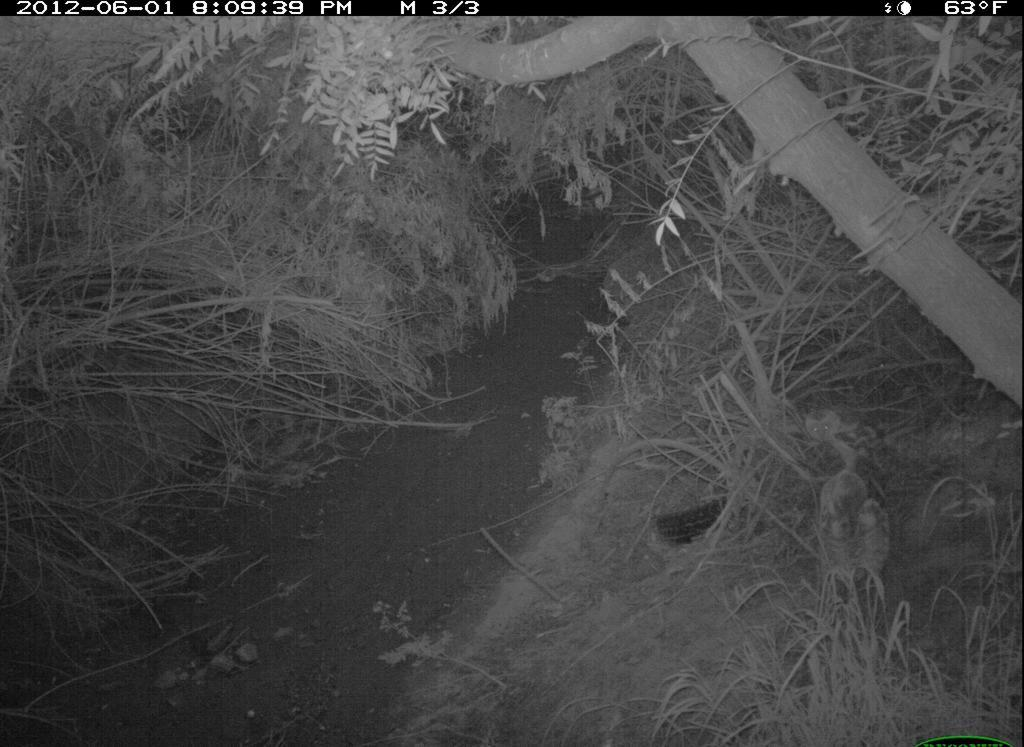bird: (783, 395, 889, 479)
